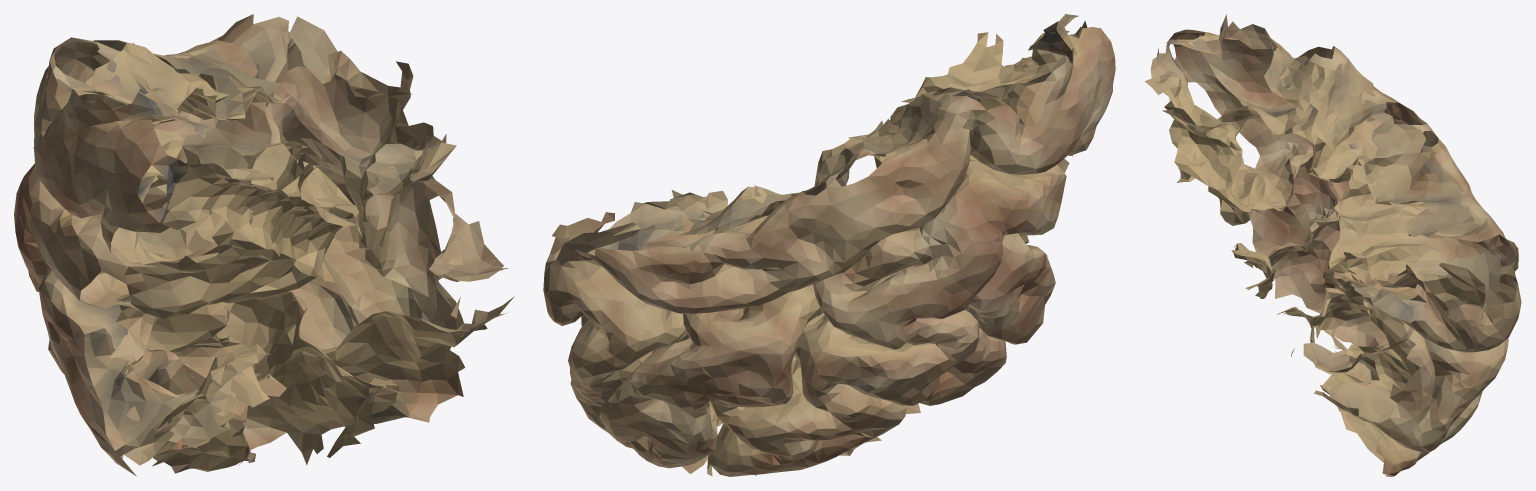
File: R_Parietal_Lobe.obj
3 views of the same model, side by side, from view 1: azimuth 30°, elevation 25°; view 2: azimuth 150°, elevation 25°; view 3: azimuth 270°, elevation 25° (orthographic). The views are drawn at different scales.
Visible parts, largest first — view 1: R_Parietal_Lobe_R_Cortex_final.005; view 2: R_Parietal_Lobe_R_Cortex_final.005; view 3: R_Parietal_Lobe_R_Cortex_final.005.
Part boxes in pixels (bbox=[...]): R_Parietal_Lobe_R_Cortex_final.005: bbox=[14, 14, 514, 476]; R_Parietal_Lobe_R_Cortex_final.005: bbox=[543, 14, 1115, 476]; R_Parietal_Lobe_R_Cortex_final.005: bbox=[1145, 14, 1521, 476].
Bounding box in the file's own units: 257 × 276 × 271.
